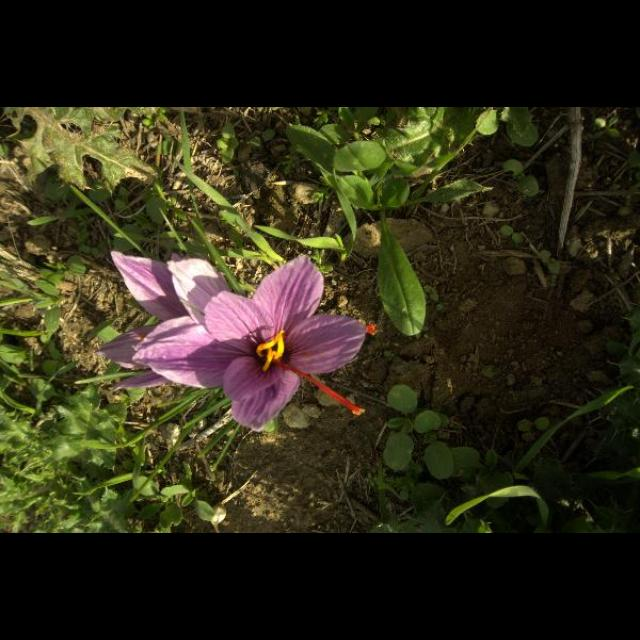flower: (94, 253, 376, 432)
